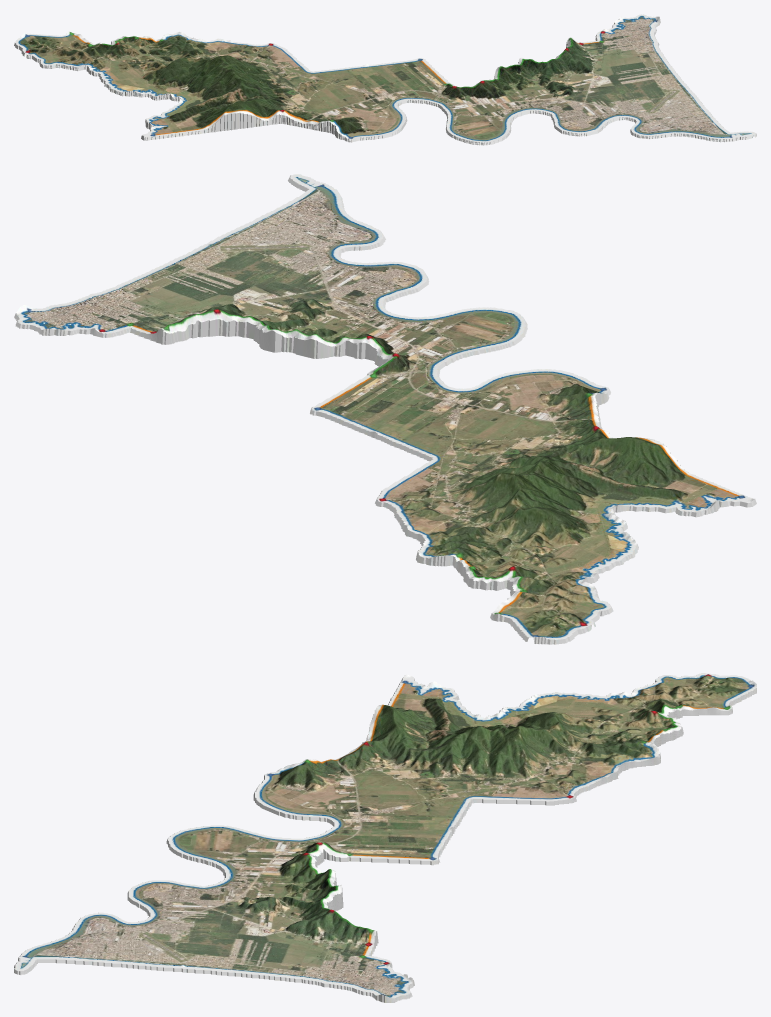
3 views of the same model, one above another, from view 1: azimuth 30°, elevation 25°; view 2: azimuth 150°, elevation 25°; view 3: azimuth 270°, elevation 25° (orthographic). The views are drawn at different scales.
Size of the model in its own units: 1 by 0.0424 by 0.9635.
1 material, 1 textured.
